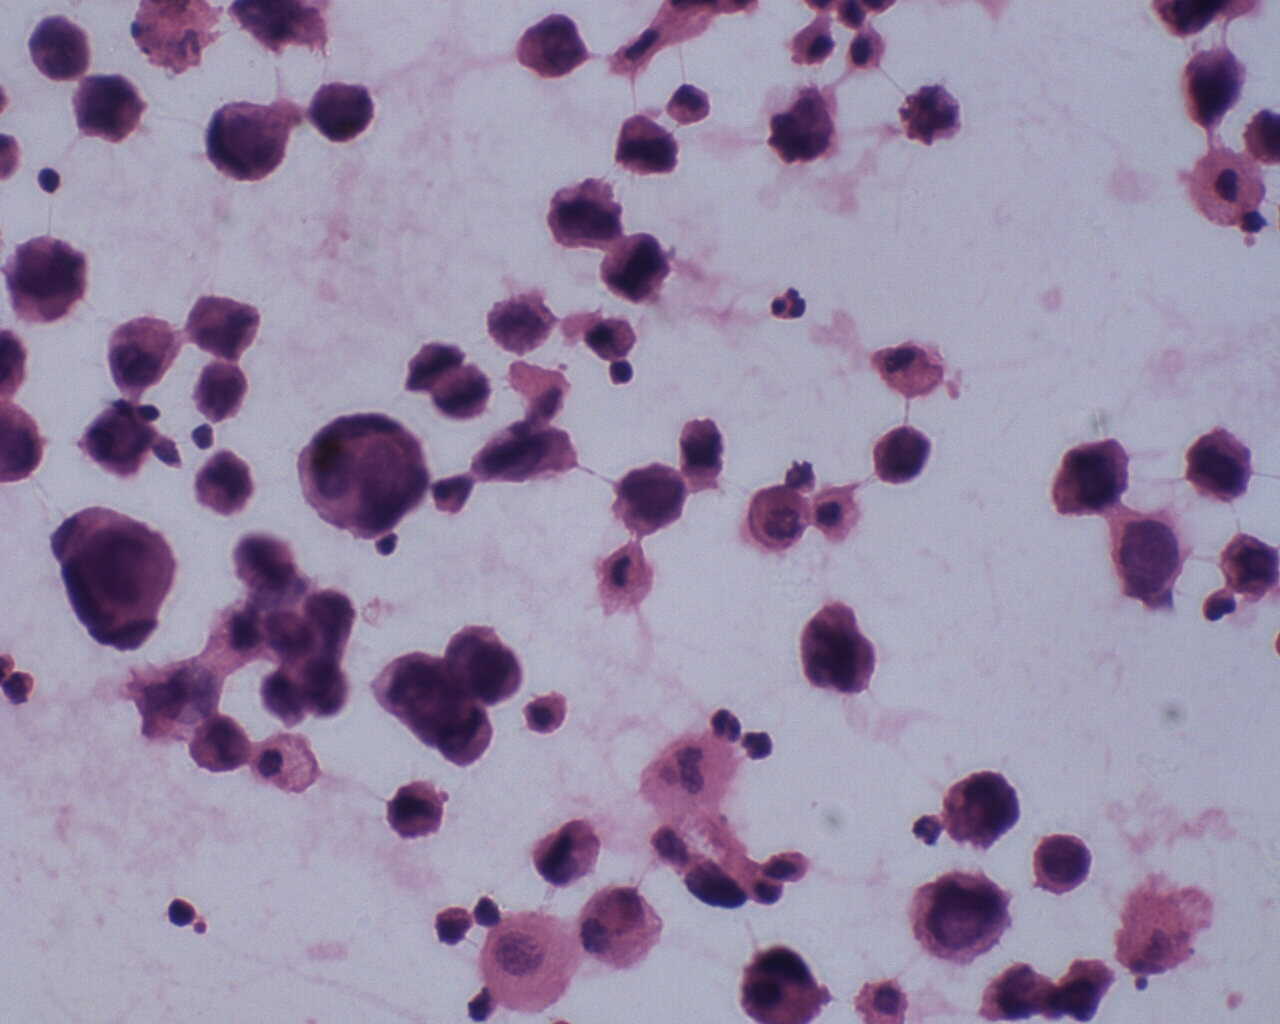ab: (53, 504, 177, 658), (301, 412, 436, 535), (906, 868, 1015, 965), (5, 226, 93, 334), (203, 94, 293, 186), (797, 599, 880, 698), (1054, 432, 1134, 522), (940, 769, 1025, 852), (540, 172, 626, 250), (1181, 426, 1260, 506), (1178, 39, 1248, 127), (609, 459, 686, 538), (71, 70, 148, 146), (598, 227, 670, 308), (513, 8, 586, 85), (608, 108, 685, 180), (80, 404, 150, 482), (307, 76, 376, 148), (870, 419, 934, 492), (24, 9, 89, 80), (1217, 526, 1280, 599), (187, 712, 252, 782), (1034, 827, 1098, 897)
histo: (580, 883, 666, 975), (1183, 146, 1269, 228), (249, 729, 326, 802)
lymph: (165, 894, 203, 933), (33, 162, 64, 197)
meso: (483, 903, 579, 1014)
neutro: (769, 280, 813, 326)
